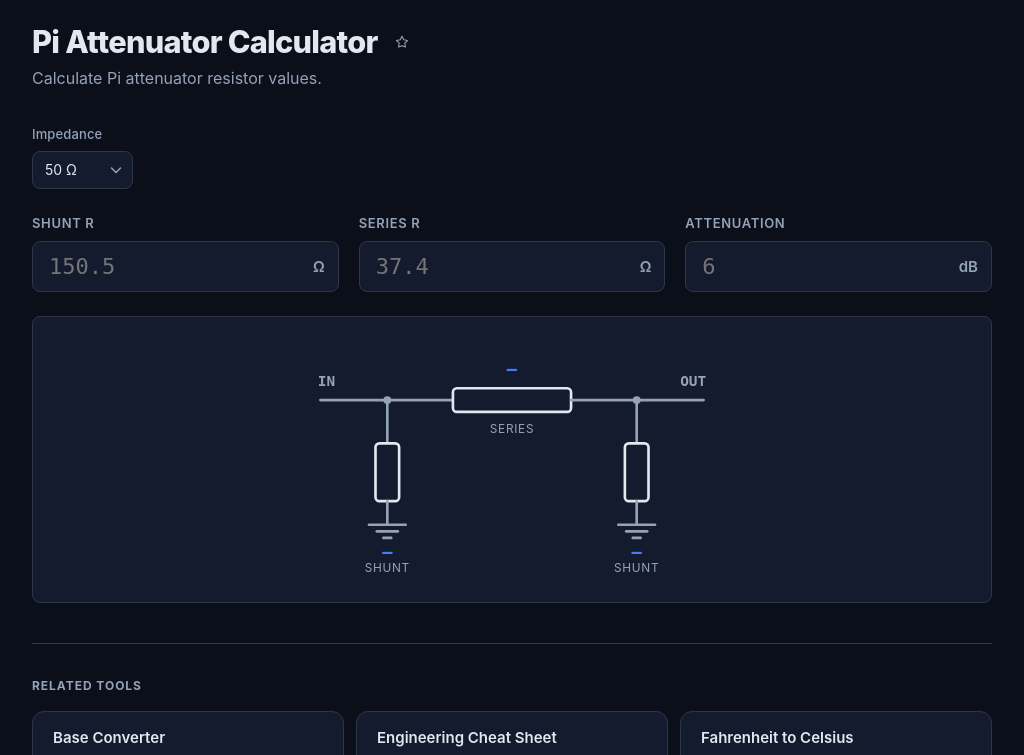
PiAttenuator › shows an error for a 0 dB target
Type "0" into the number field named "attenuation db" at (839,267), box 685,241 -> 992,292
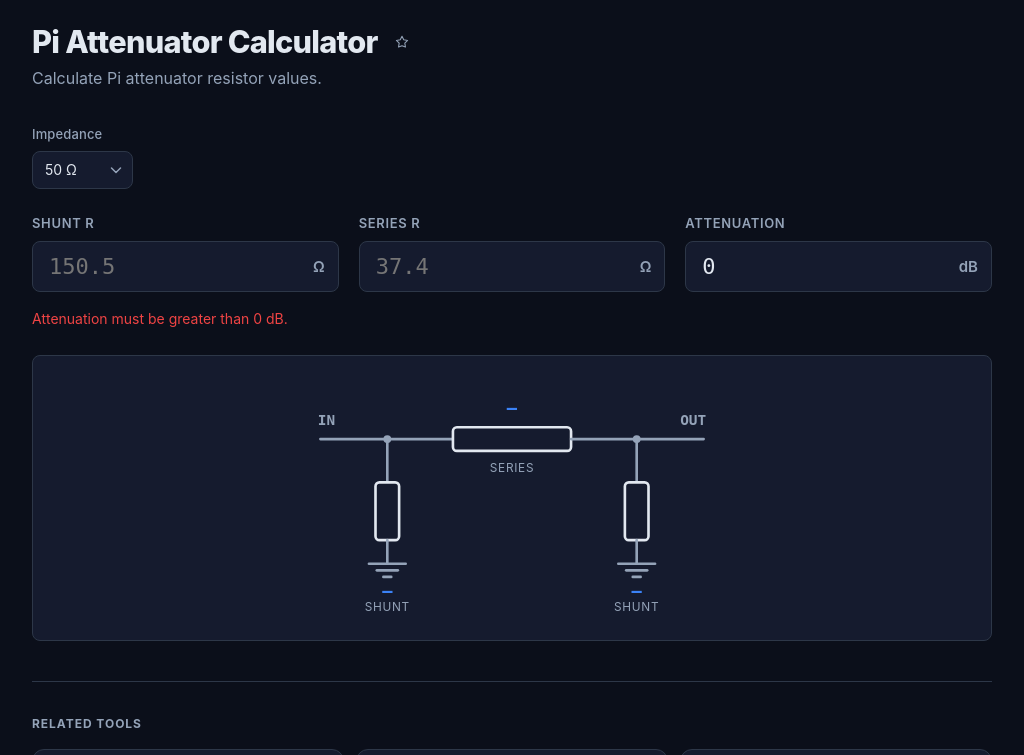
Expected: the message "Attenuation must be greater than 0 dB." is shown, 32,310 -> 288,327
